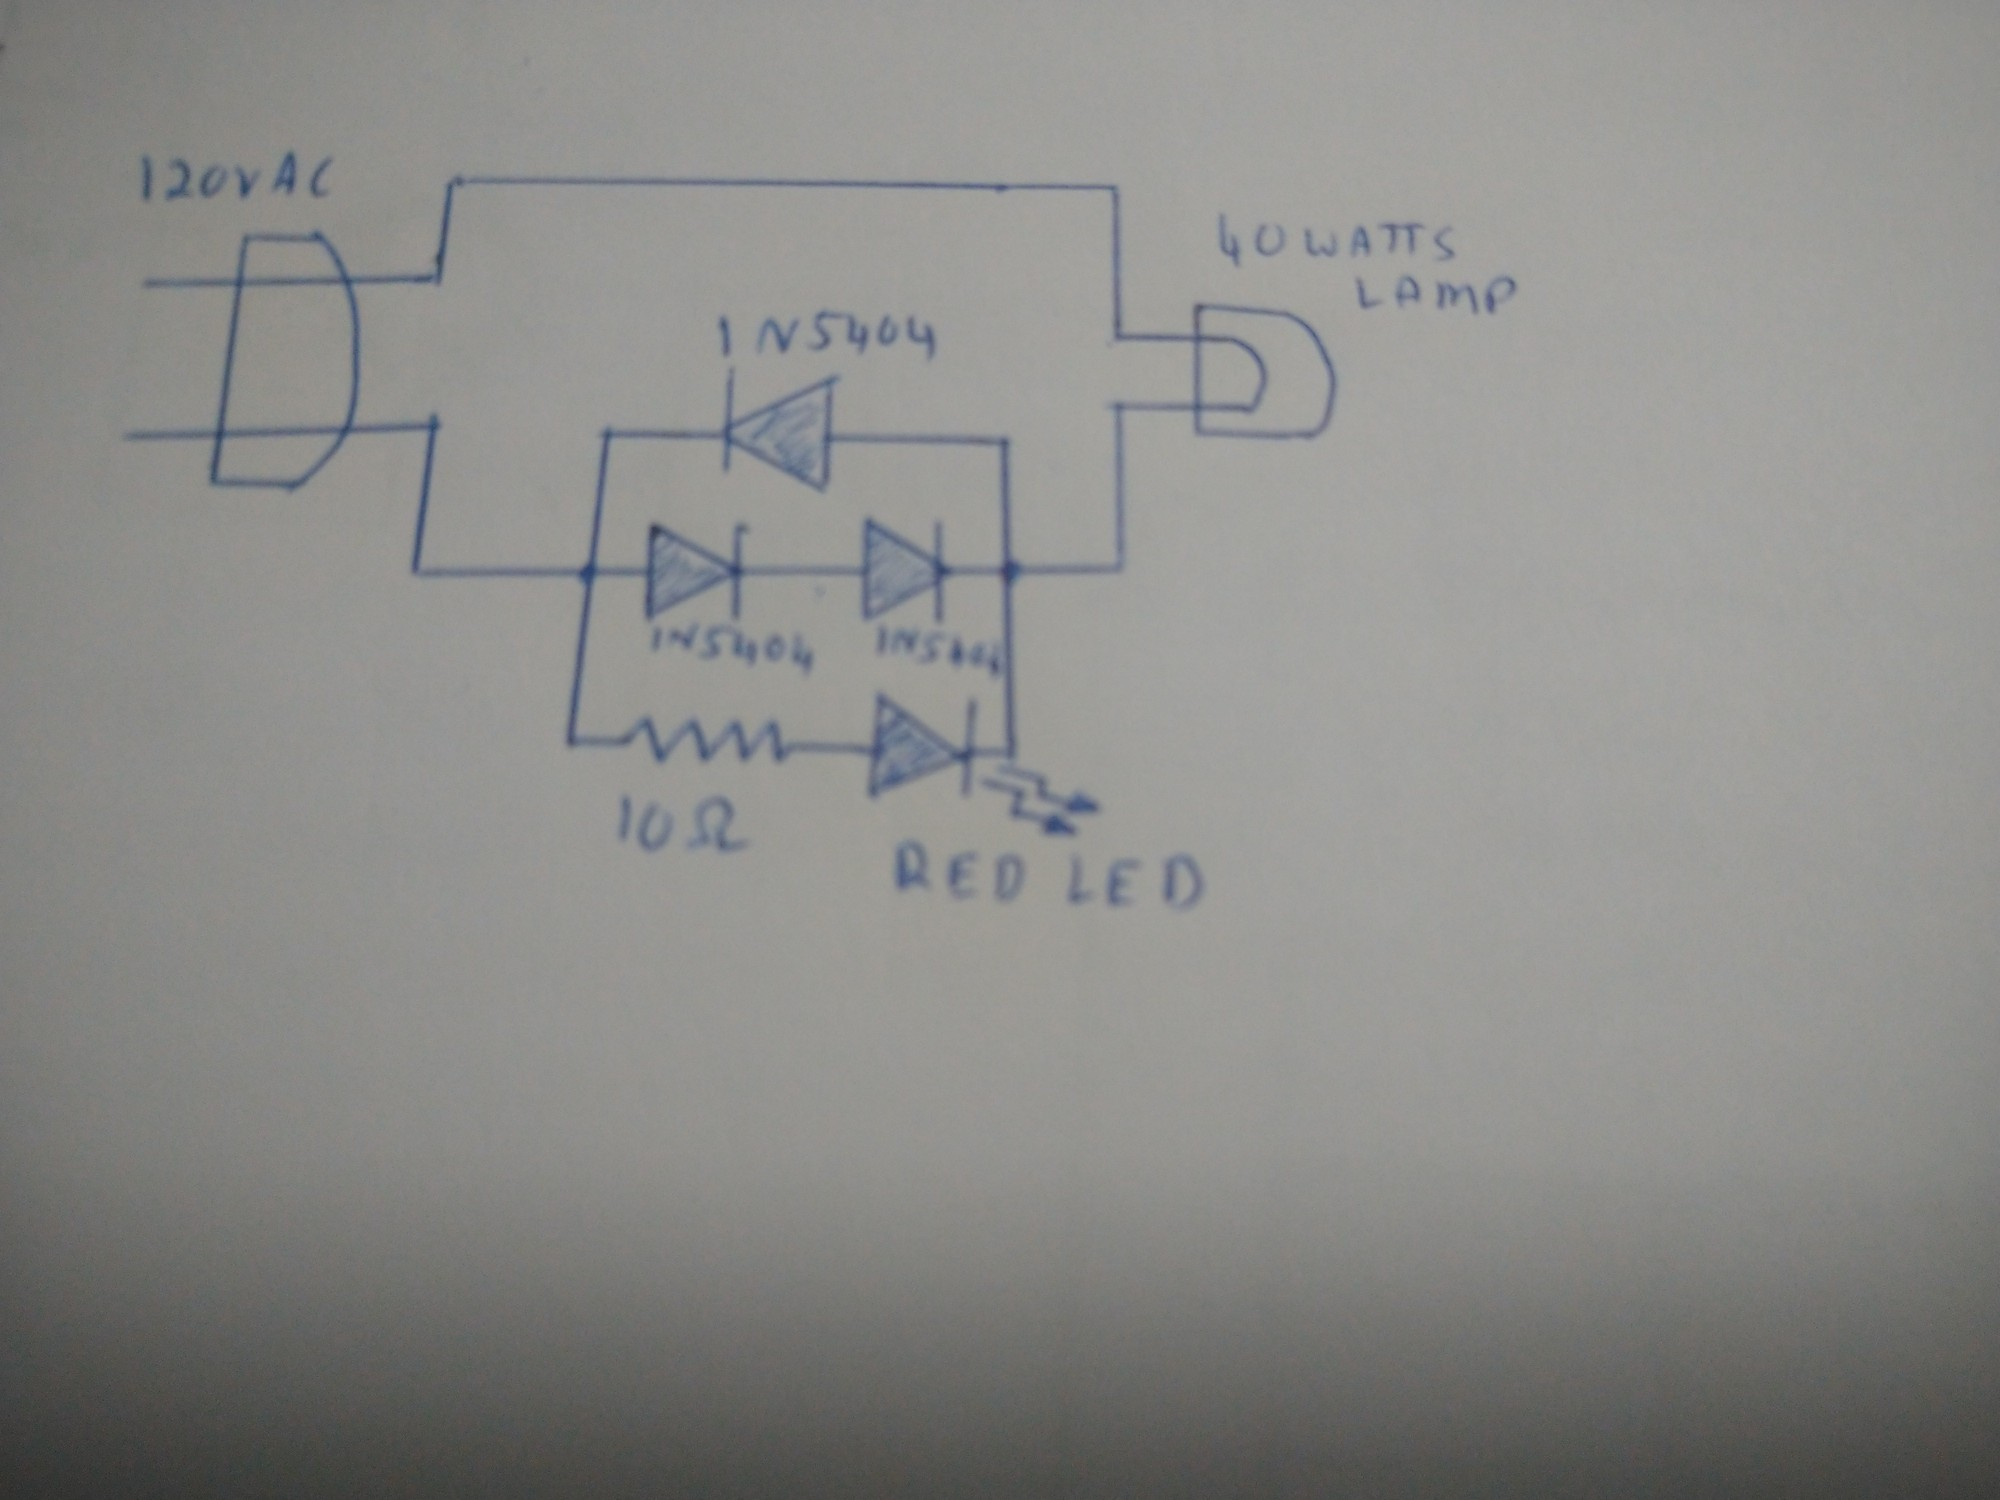diode: (713, 362, 846, 501), (636, 514, 757, 624), (850, 507, 953, 629)
diode.light_emitting: (861, 687, 1106, 838)
junction: (992, 551, 1035, 596), (573, 558, 609, 589), (439, 165, 472, 199), (417, 408, 450, 440), (402, 555, 431, 589), (557, 725, 591, 755), (1106, 395, 1139, 424), (1106, 553, 1134, 581), (1104, 175, 1131, 202), (992, 430, 1020, 455), (1106, 323, 1132, 348), (424, 265, 450, 290), (597, 422, 619, 444)
lamp: (1184, 295, 1346, 452)
resistor: (614, 707, 795, 774)
socket: (202, 224, 369, 503)
terminal: (106, 427, 146, 454), (126, 273, 164, 298)
text: (883, 834, 1216, 922), (1206, 203, 1461, 266), (707, 303, 943, 367), (126, 143, 342, 213), (646, 618, 830, 685), (603, 786, 754, 859), (1345, 265, 1521, 321), (858, 621, 1003, 681)
